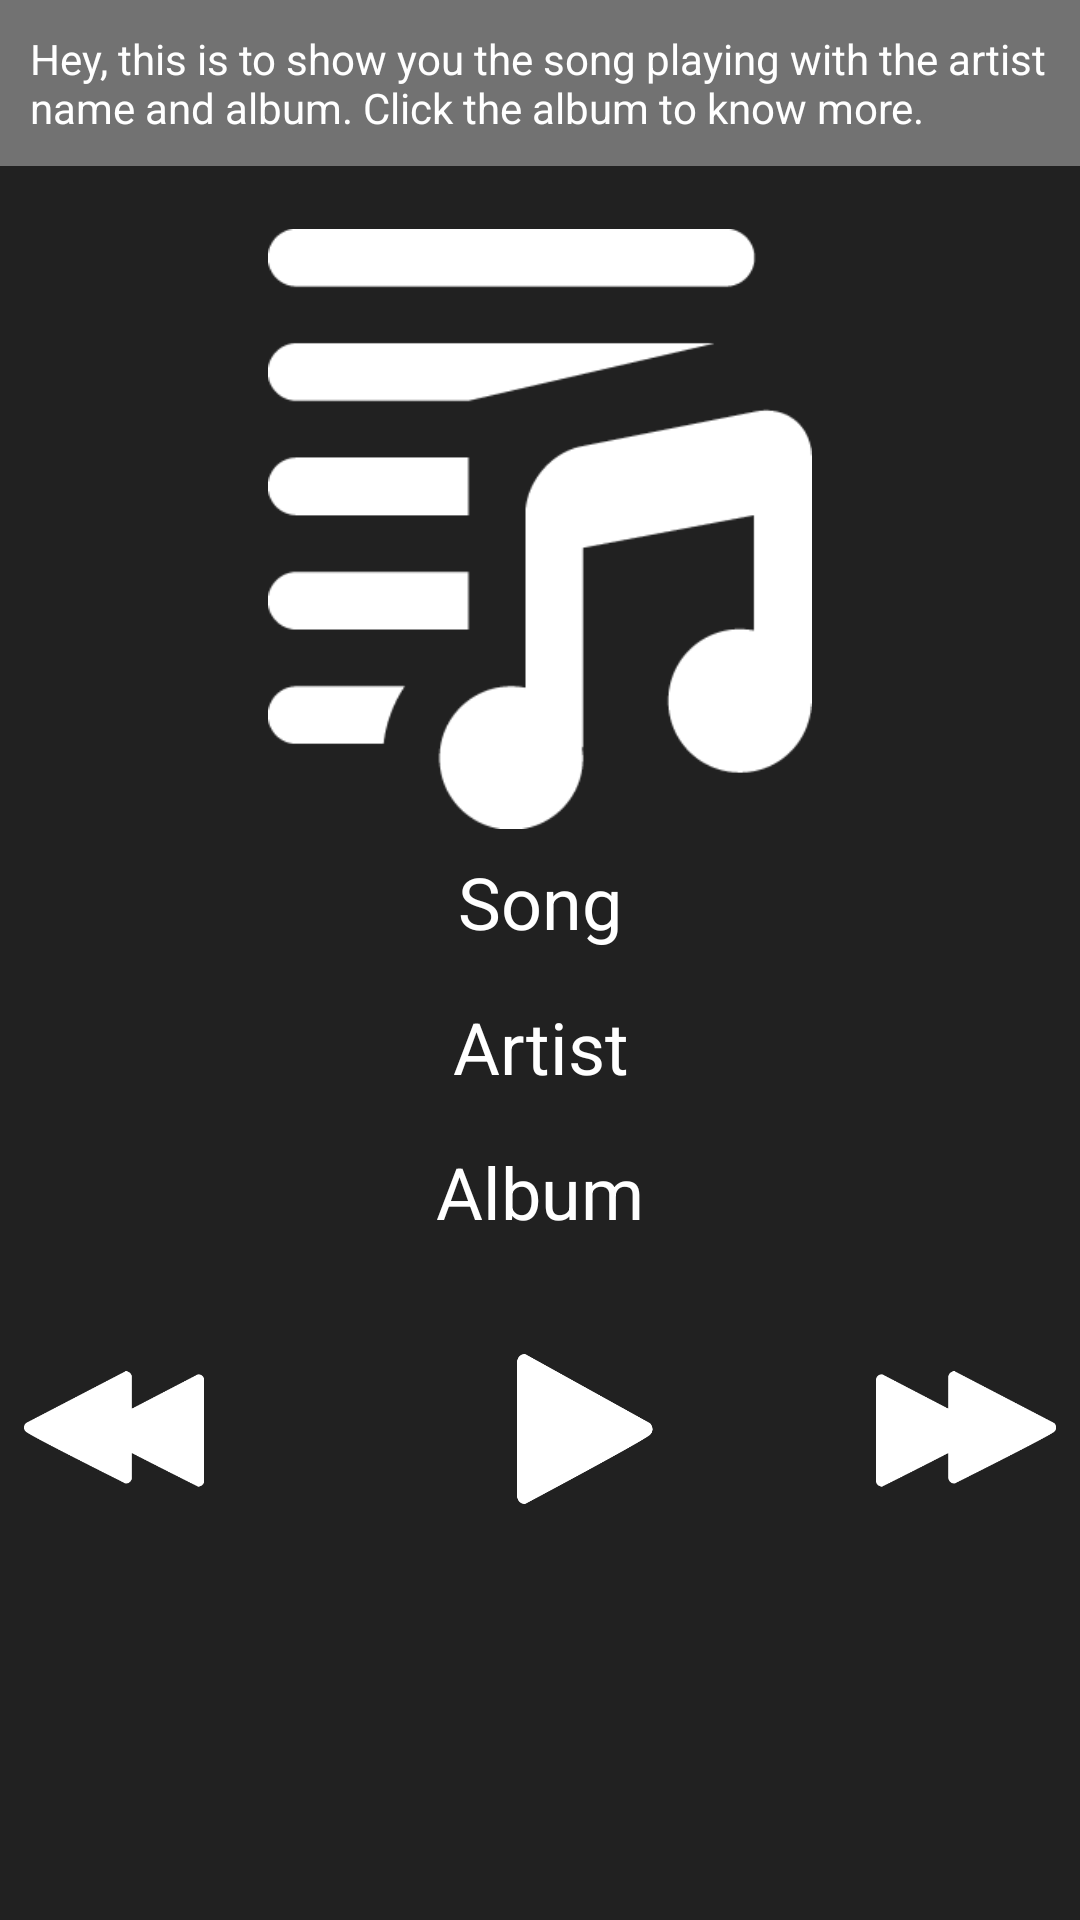

Icons on this 1080 x 1920 Android screen, each with the point to tap as point (x, y):
music back: point (114, 1429)
music forward: point (966, 1429)
music play: point (585, 1429)
